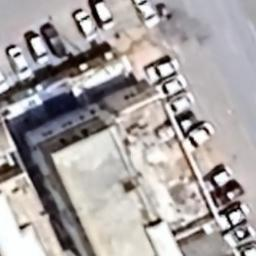sedan: (4, 44, 36, 84), (184, 120, 216, 154), (128, 0, 162, 30), (216, 202, 250, 232), (72, 8, 100, 44), (144, 55, 180, 83), (23, 32, 53, 65), (42, 22, 68, 60), (152, 74, 190, 100), (199, 164, 233, 192), (212, 180, 243, 206), (222, 224, 256, 245), (165, 92, 193, 116), (176, 112, 200, 136), (233, 240, 256, 256)
van: (89, 0, 118, 32)
